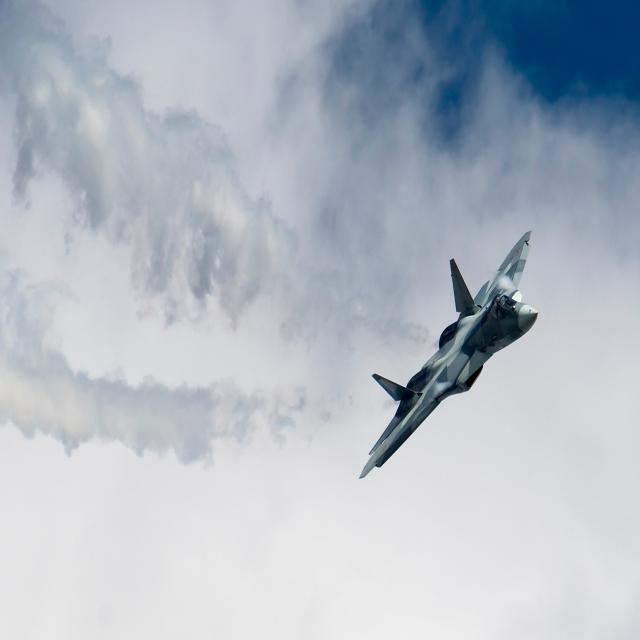MIL_Plane: (359, 230, 540, 479)
